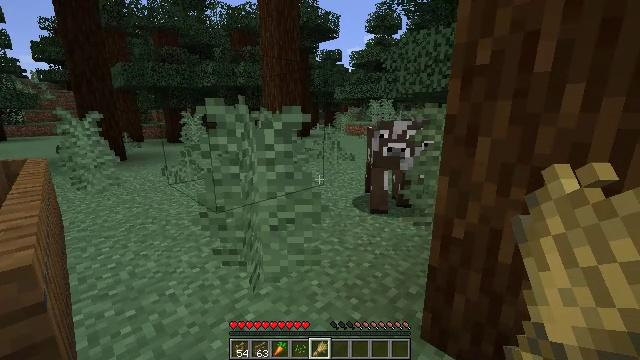cow: (365, 121, 414, 210)
